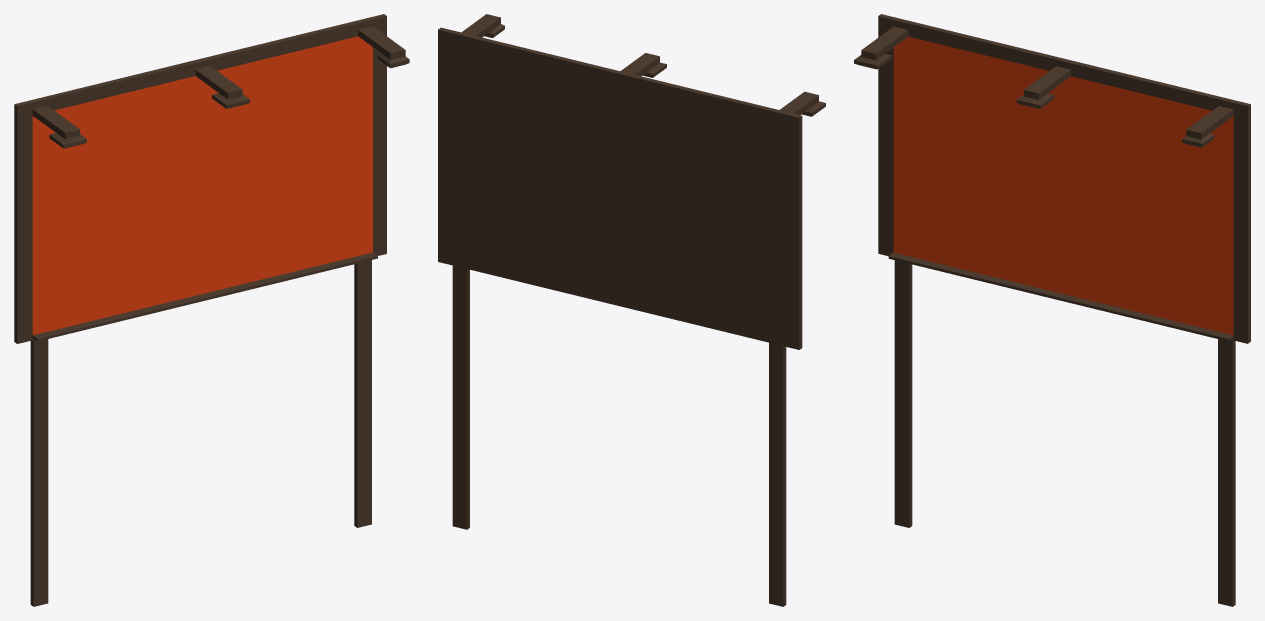
File: BillBoard 1.fbx
3 renders of one model, left to right at view 1: azimuth 30°, elevation 25°; view 2: azimuth 150°, elevation 25°; view 3: azimuth 330°, elevation 25°, orthographic. The views are drawn at different scales.
Parts seen in each view (by area): view 1: Cube; view 2: Cube; view 3: Cube.
Boxes of the visible parts, x1,y1,x2,y2 form: Cube: (14,14,409,606); Cube: (438,14,825,606); Cube: (854,14,1250,606).
Size of the model in its own units: 1674 by 2181 by 299.
